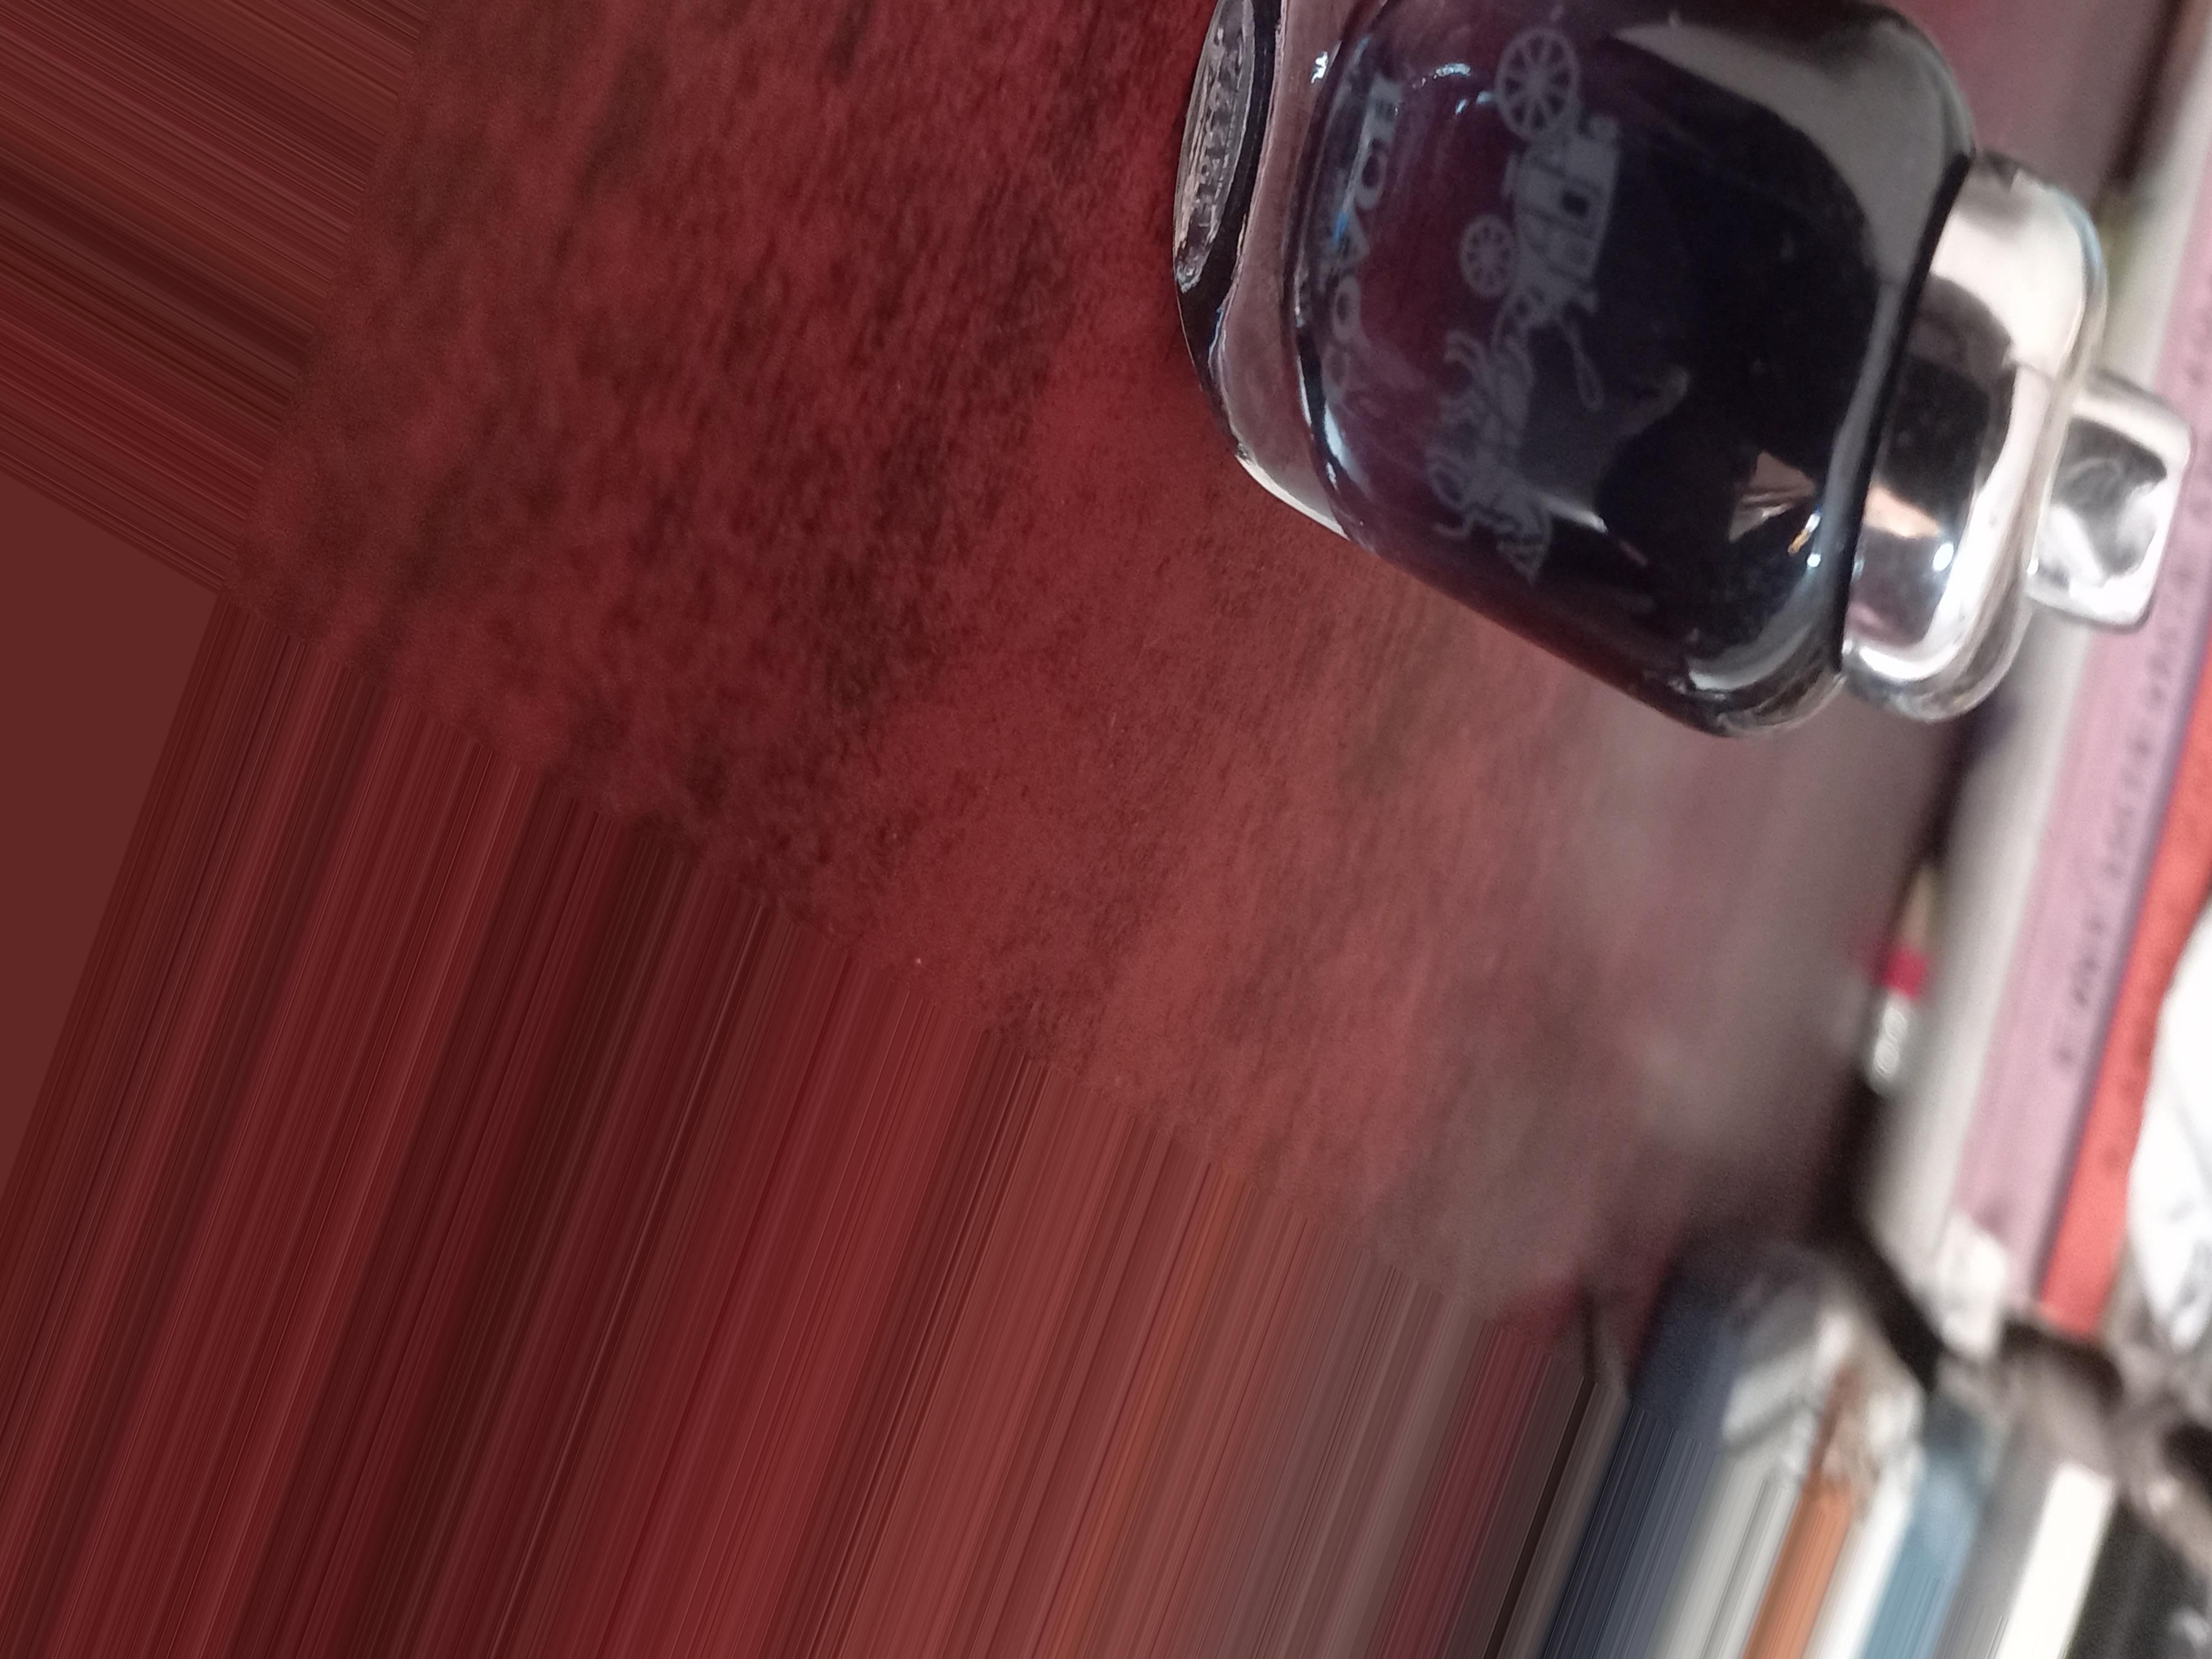perfume: (1186, 0, 2212, 723)
